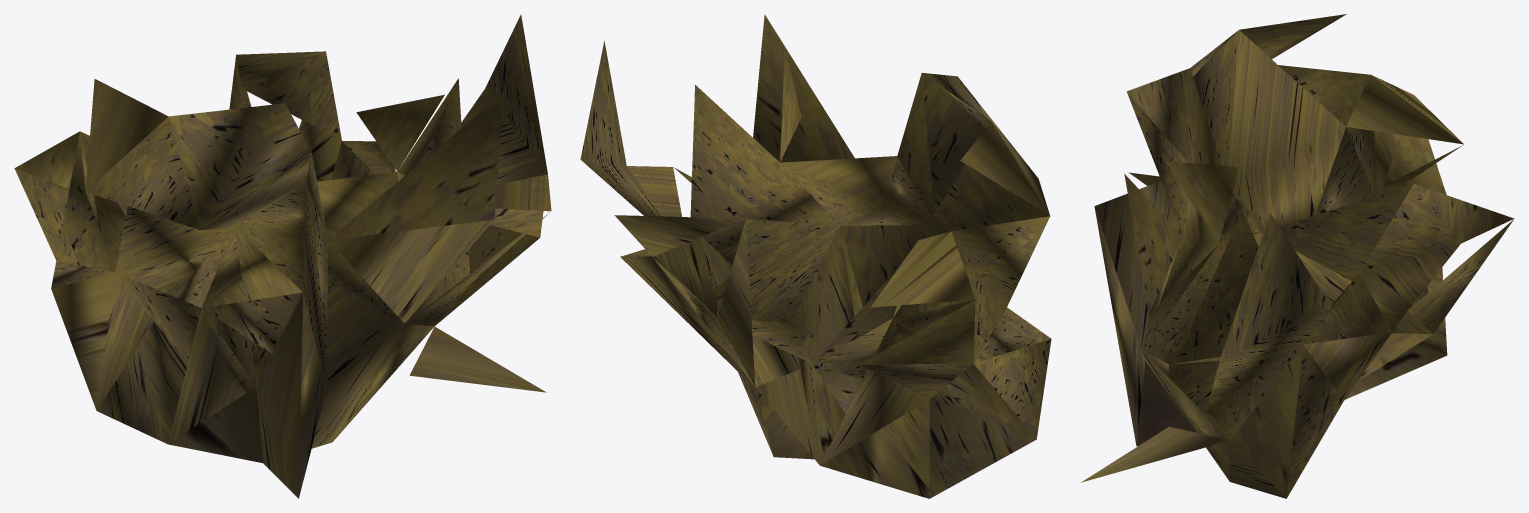
The model's file is Urban_Bush_2500.glb.
The picture shows the model from 3 angles, left to right: view 1: azimuth 30°, elevation 25°; view 2: azimuth 150°, elevation 25°; view 3: azimuth 270°, elevation 25°; orthographic projection. The views are drawn at different scales.
Visible parts, largest first — view 1: output_unwrapped; view 2: output_unwrapped; view 3: output_unwrapped.
Boxes of the visible parts, x1,y1,x2,y2 form: output_unwrapped: [14, 14, 551, 498]; output_unwrapped: [580, 14, 1051, 498]; output_unwrapped: [1081, 14, 1514, 498].
Bounding box in the file's own units: 1.57 × 1.22 × 1.25.
Materials: 1 (1 with a texture image).
